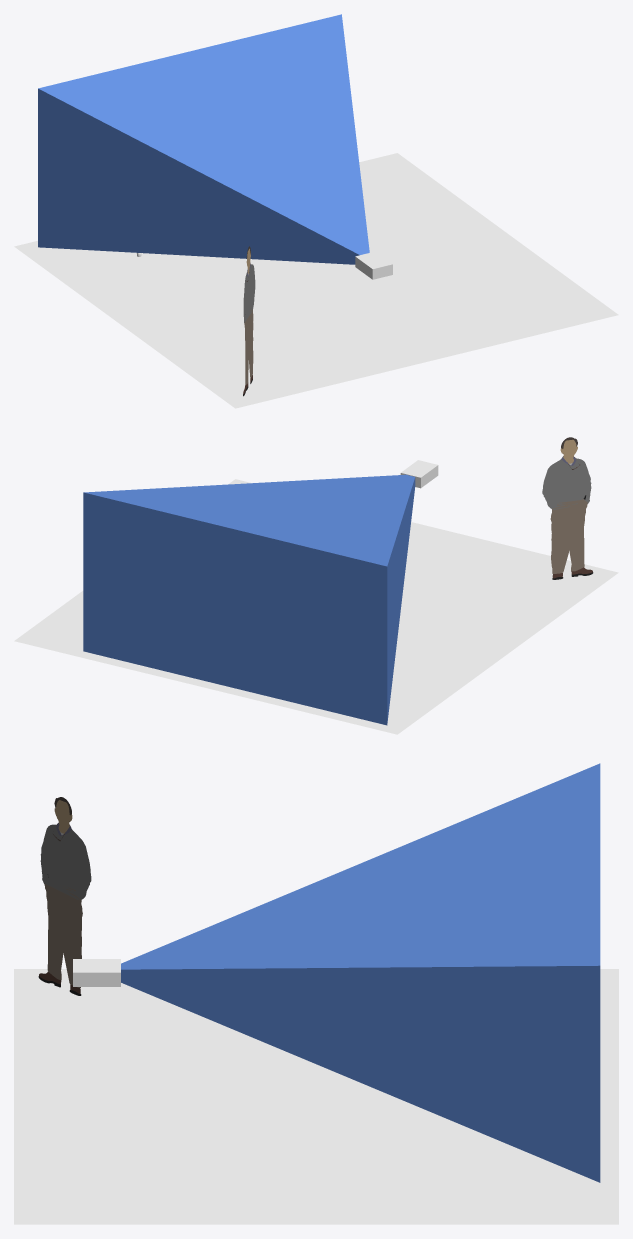
Rendered from SET_03_TENDEDERO-PICKS.obj.
3 renders of one model, top to bottom at view 1: azimuth 30°, elevation 25°; view 2: azimuth 150°, elevation 25°; view 3: azimuth 270°, elevation 25°, orthographic. The views are drawn at different scales.
Visible parts, largest first — view 1: Mesh2 Component_7_1 Component_8_1 Model, Mesh4 Component_9_1 Model, Mesh1 Derrick1 Model, Mesh3 Component_6_1 Component_8_1 Model; view 2: Mesh2 Component_7_1 Component_8_1 Model, Mesh4 Component_9_1 Model, Mesh1 Derrick1 Model, Mesh3 Component_6_1 Component_8_1 Model; view 3: Mesh2 Component_7_1 Component_8_1 Model, Mesh4 Component_9_1 Model, Mesh1 Derrick1 Model, Mesh3 Component_6_1 Component_8_1 Model.
Part boxes in pixels (x1,y1,x2,y2): Mesh2 Component_7_1 Component_8_1 Model: (38, 14, 369, 264); Mesh4 Component_9_1 Model: (14, 153, 618, 408); Mesh1 Derrick1 Model: (243, 246, 255, 396); Mesh3 Component_6_1 Component_8_1 Model: (355, 251, 392, 279); Mesh2 Component_7_1 Component_8_1 Model: (83, 474, 415, 725); Mesh4 Component_9_1 Model: (14, 479, 618, 734); Mesh1 Derrick1 Model: (542, 437, 593, 579); Mesh3 Component_6_1 Component_8_1 Model: (400, 460, 438, 488); Mesh2 Component_7_1 Component_8_1 Model: (121, 763, 600, 1182); Mesh4 Component_9_1 Model: (14, 969, 618, 1224); Mesh1 Derrick1 Model: (38, 797, 91, 995); Mesh3 Component_6_1 Component_8_1 Model: (73, 959, 120, 986).
Bounding box in the file's own units: 5000 × 1980 × 5000.
